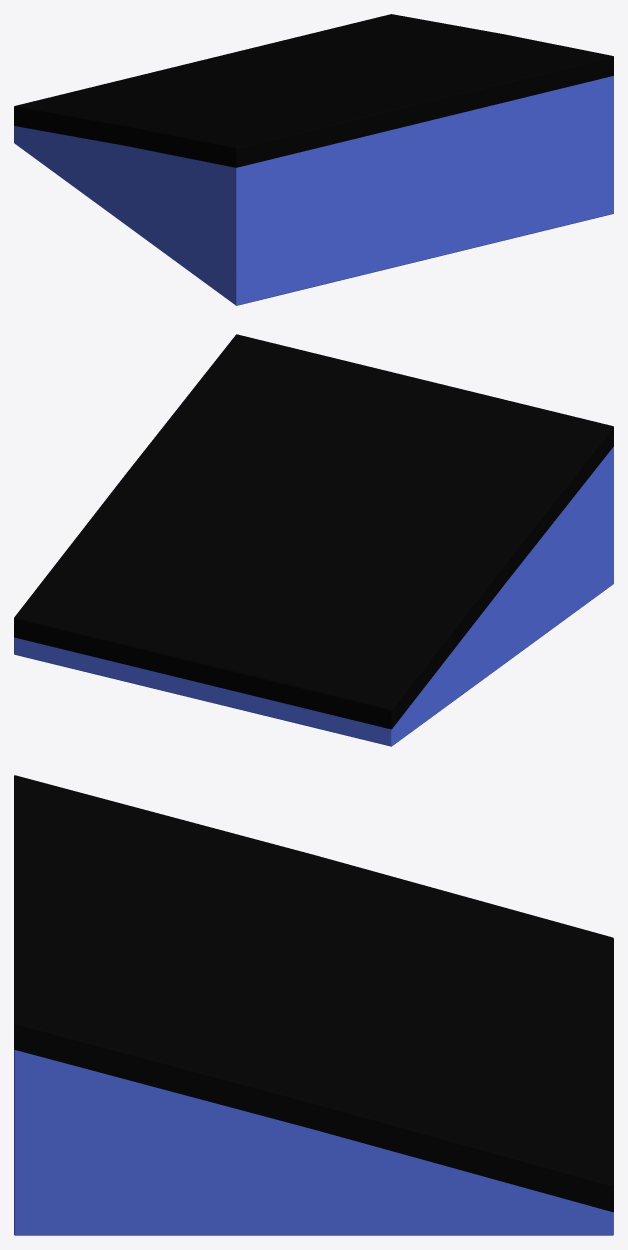
The model's file is CeilingBottomSimple.fbx.
The picture shows the model from 3 angles, top to bottom: view 1: azimuth 30°, elevation 25°; view 2: azimuth 150°, elevation 25°; view 3: azimuth 270°, elevation 25°; orthographic projection. The views are drawn at different scales.
Visible parts, largest first — view 1: CeilingLow; view 2: CeilingLow; view 3: CeilingLow.
Part boxes in pixels (x1,y1,x2,y2): CeilingLow: (14,14,613,305); CeilingLow: (14,334,613,746); CeilingLow: (14,775,613,1235).
Bounding box in the file's own units: 2 × 2.04 × 0.7988.
